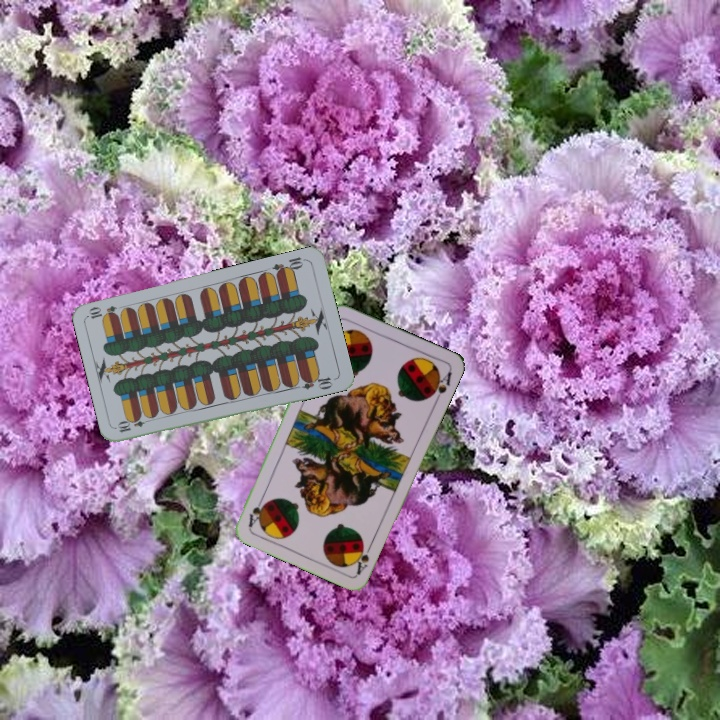E10: (269, 253, 309, 278), (114, 414, 154, 435)
SA: (352, 538, 375, 577)
